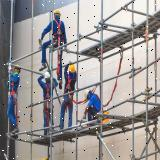Helmet: (13, 63, 21, 73), (54, 9, 62, 19), (84, 89, 90, 102), (69, 64, 75, 73), (44, 72, 50, 78)
